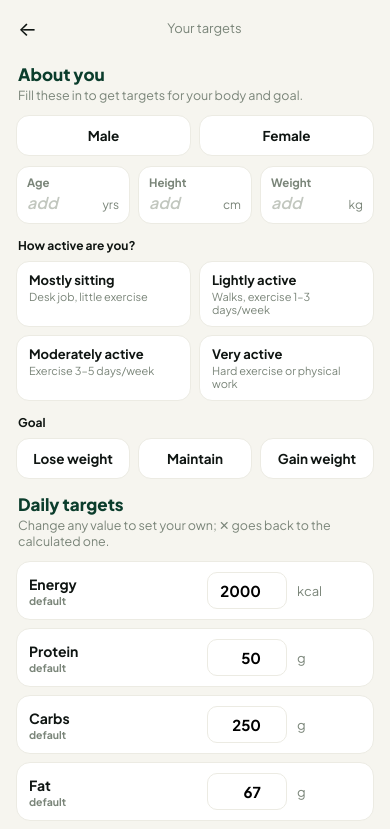
Test case: TargetsScreen › keeps a custom value as an override and can reset it
Replace the text in the number field named "Protein target" with "90" at (247, 658), box [207,639,287,676]
(page scrolled)
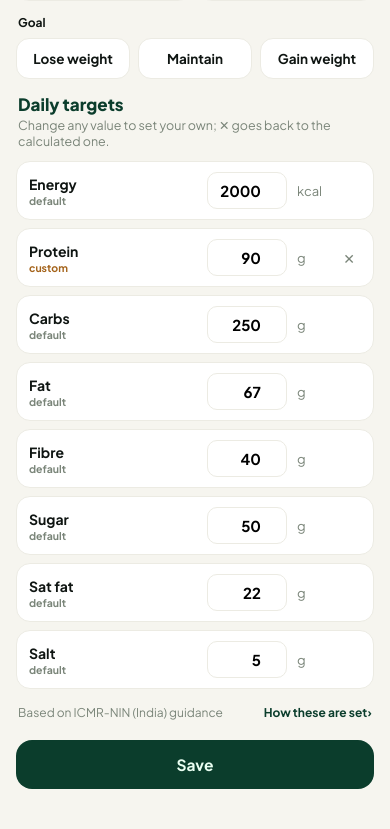
Result: the text "custom" is shown at [29,260,68,274]
Click the button "Save".
click(195, 764)  # box [16,740,374,789]
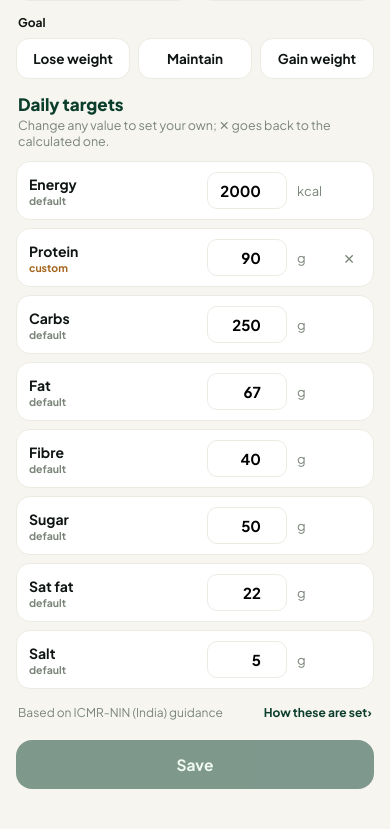
Click the button named "Reset Protein to calculated".
click(349, 258)  # box [337,248,361,266]
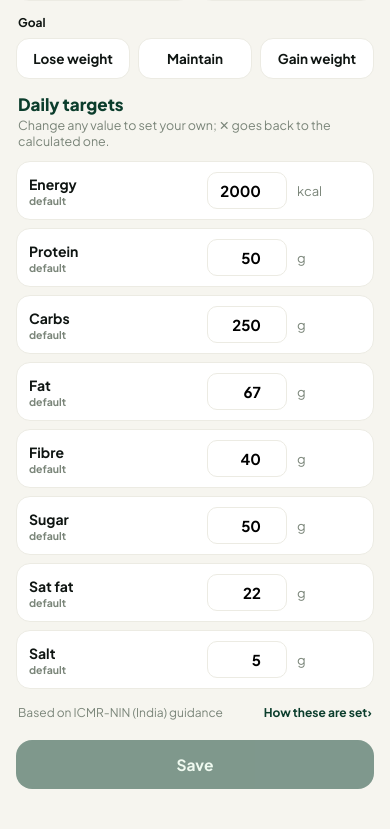
Result: the number field named "Protein target" holds "50" at [207,239,287,276]
